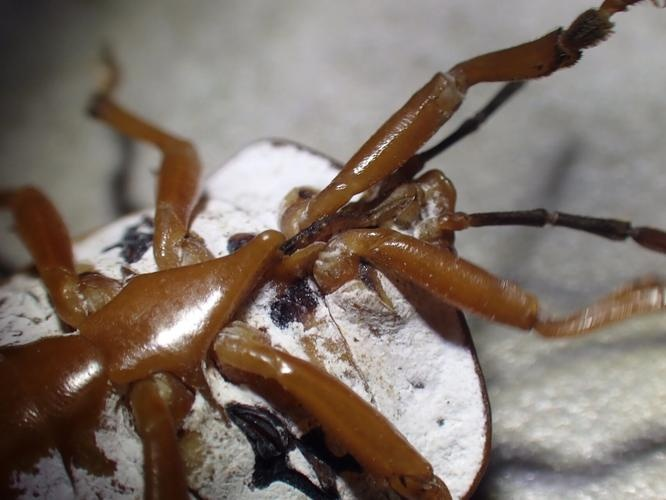Stink_Bug: (52, 94, 528, 498)
